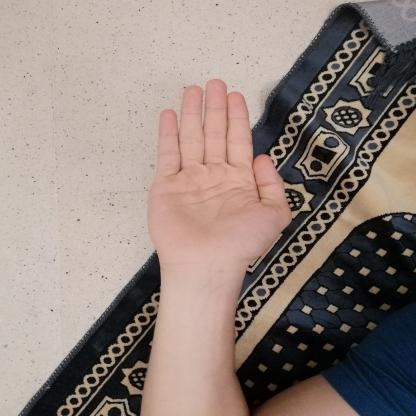SEEN: (137, 72, 301, 279)
